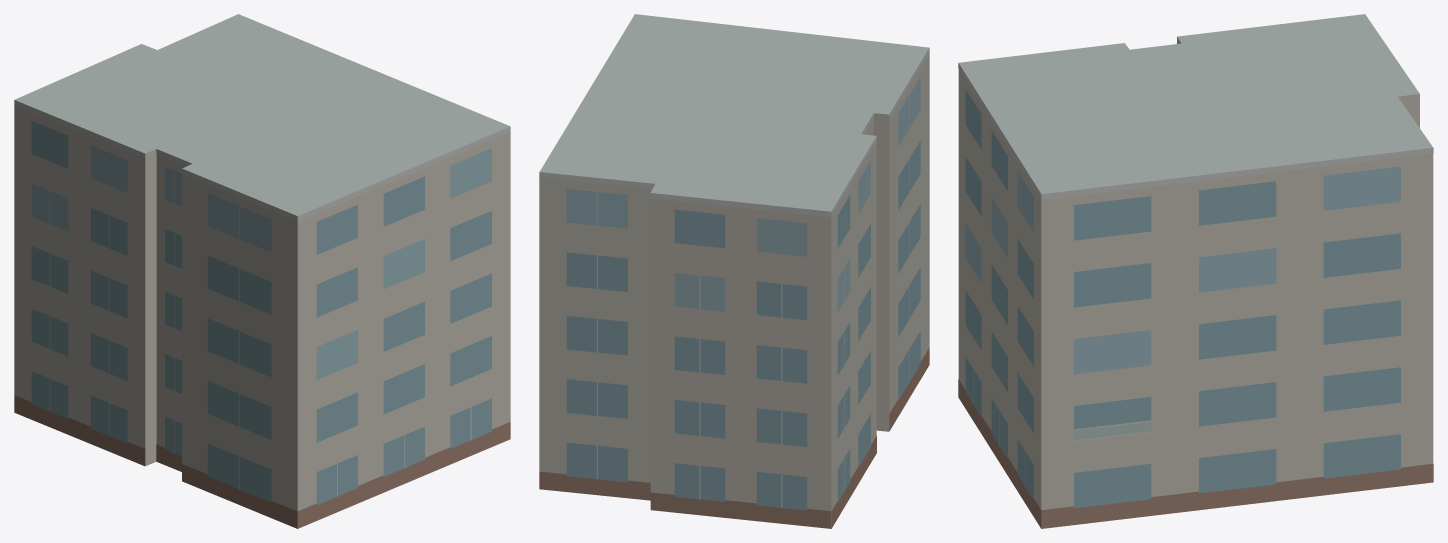
Rendered from survey-upis-32652801.glb.
The picture shows the model from 3 angles, left to right: view 1: azimuth 30°, elevation 25°; view 2: azimuth 150°, elevation 25°; view 3: azimuth 270°, elevation 25°; orthographic projection. The views are drawn at different scales.
Visible parts, largest first — view 1: survey-upis-32652801.tmp; view 2: survey-upis-32652801.tmp; view 3: survey-upis-32652801.tmp.
Part boxes in pixels (bbox=[...]): survey-upis-32652801.tmp: bbox=[14, 14, 510, 528]; survey-upis-32652801.tmp: bbox=[539, 14, 929, 528]; survey-upis-32652801.tmp: bbox=[958, 14, 1433, 528].
Size of the model in its own units: 16.18 by 14 by 18.02.
